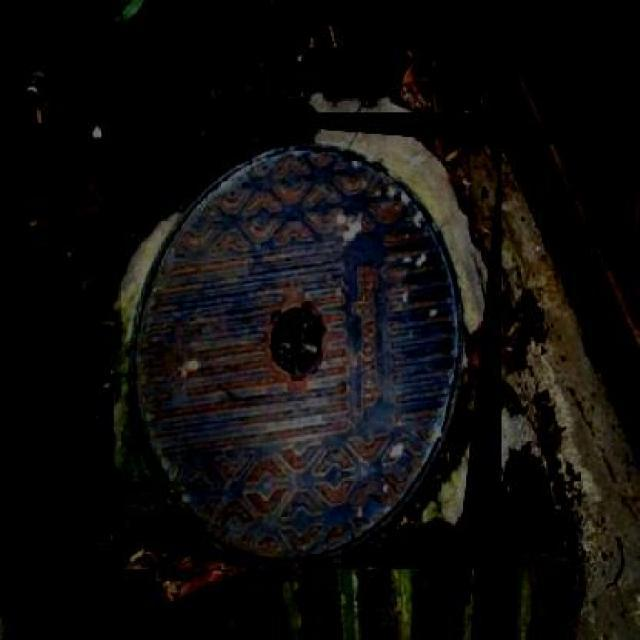Manhole: (114, 112, 502, 570)
